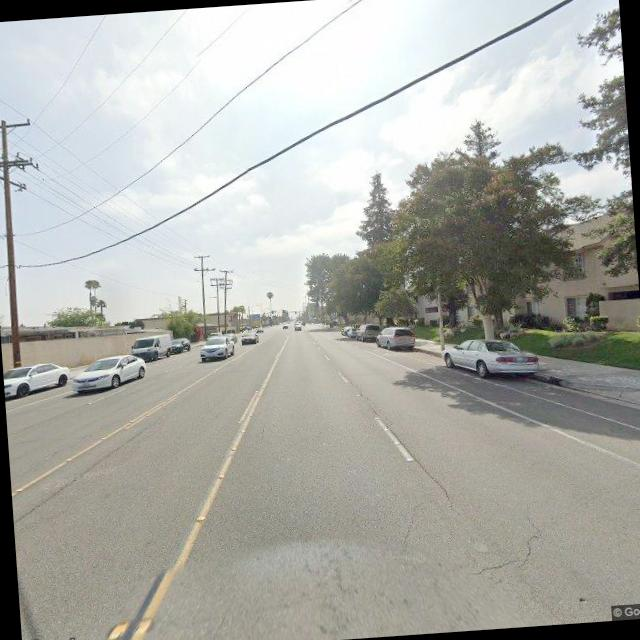crack: (465, 510, 546, 579), (398, 507, 420, 547), (254, 417, 266, 441)
